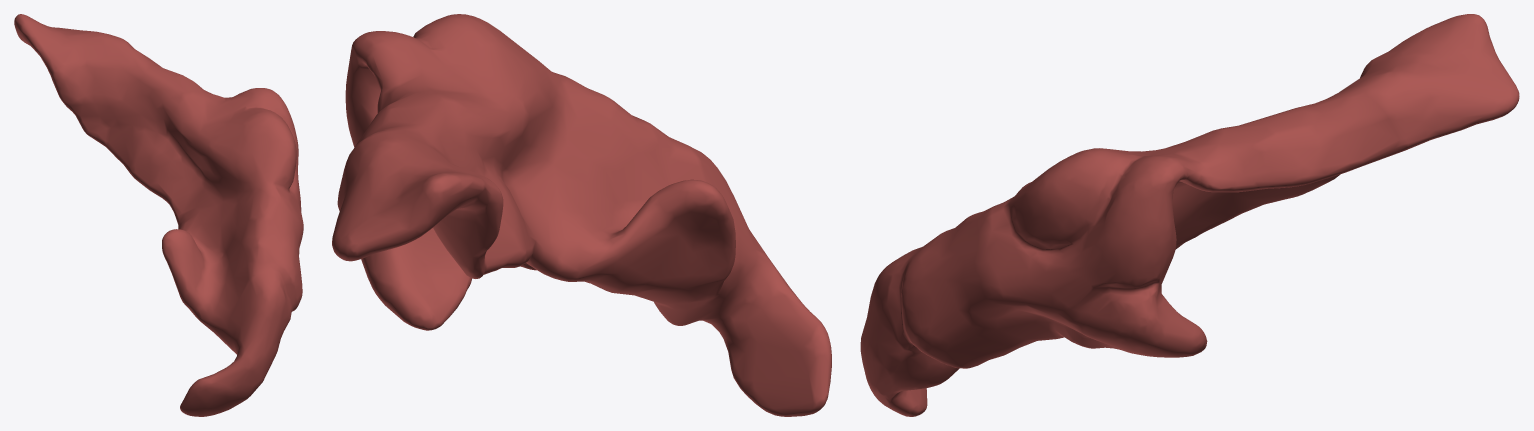
The model's file is FMA72801.glb.
3 views of the same model, side by side, from view 1: azimuth 30°, elevation 25°; view 2: azimuth 150°, elevation 25°; view 3: azimuth 270°, elevation 25° (orthographic). The views are drawn at different scales.
Parts seen in each view (by area): view 1: FMA72801; view 2: FMA72801; view 3: FMA72801.
Boxes of the visible parts, x1,y1,x2,y2 form: FMA72801: [14, 14, 303, 416]; FMA72801: [332, 14, 831, 416]; FMA72801: [860, 14, 1519, 416].
Size of the model in its own units: 0.034 by 0.0463 by 0.0698.
